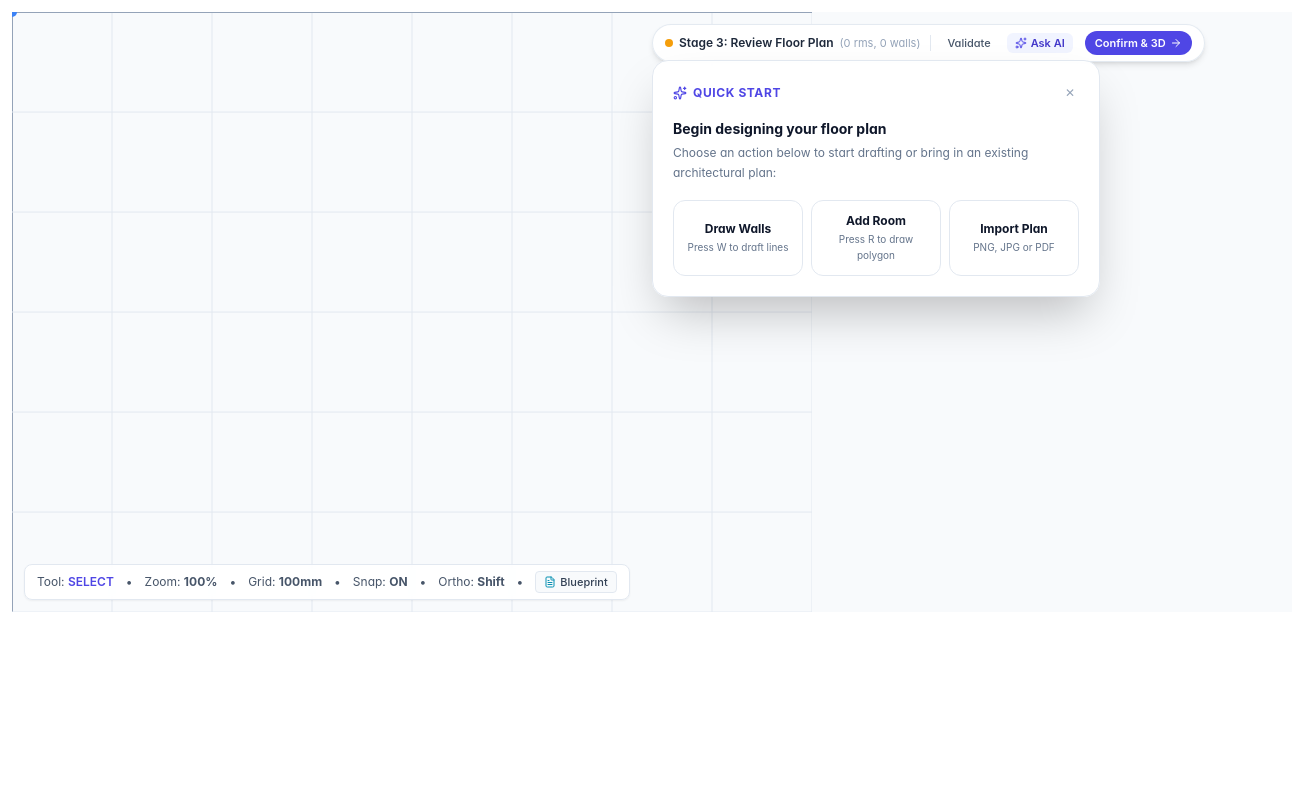
Post-Audit Remediation Verification Suite › 3. FIX-01: Beginner Empty Canvas Onboarding Guide › dismisses guide when the close button is clicked
This screenshot has width=1292, height=812.
Click the button named "dismiss quick start guide": (1070, 93) [1061,81,1079,105]
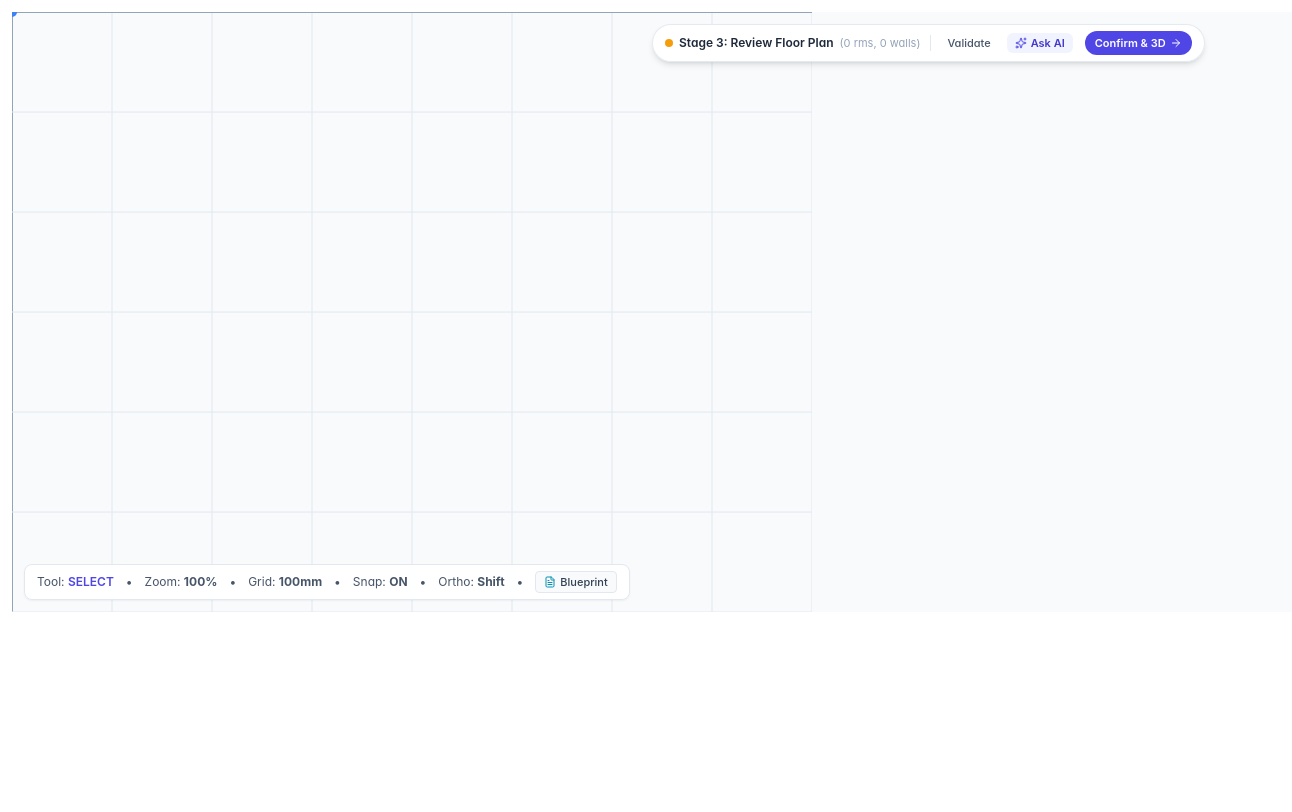
expect the element with test id "empty-canvas-onboarding-guide" is gone: met
